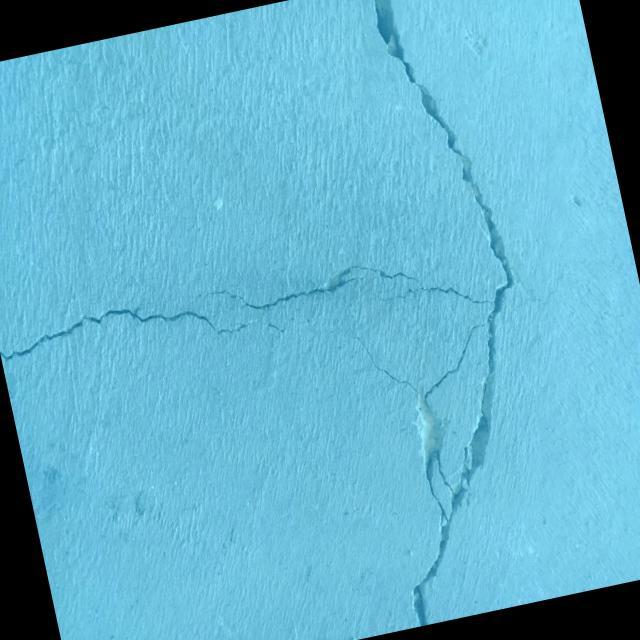crack: (148, 0, 581, 640), (0, 280, 249, 381)
